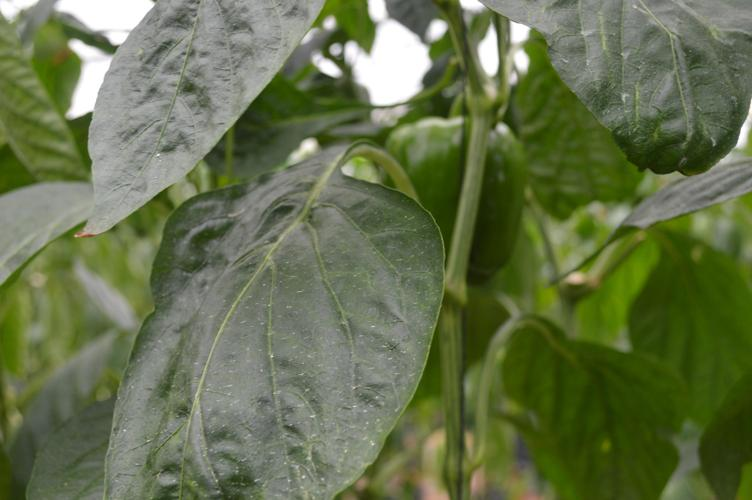BellPepper: (386, 119, 526, 276)
